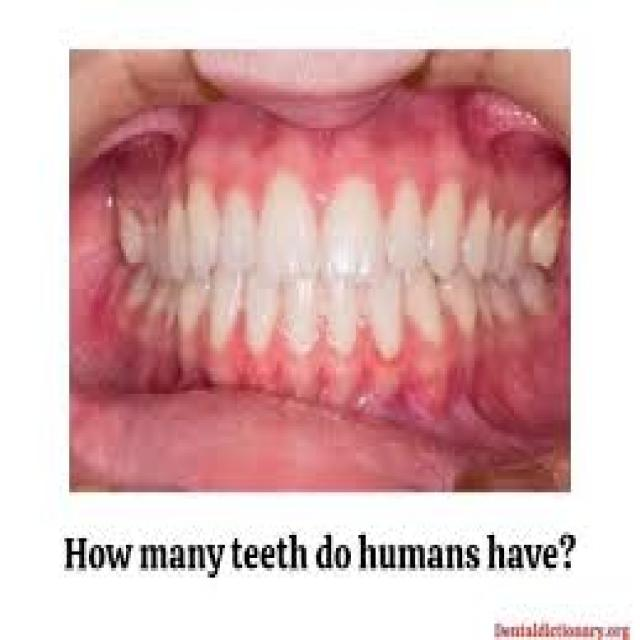tooth: (497, 197, 566, 331), (322, 171, 386, 282), (257, 161, 316, 276), (425, 177, 465, 279), (324, 269, 366, 361), (274, 276, 319, 361), (114, 276, 180, 332), (366, 282, 408, 368), (390, 174, 428, 269), (218, 174, 255, 269), (188, 177, 220, 269), (116, 193, 153, 266), (438, 272, 480, 335), (158, 194, 190, 276), (244, 272, 272, 352), (180, 269, 212, 338), (410, 266, 440, 338), (213, 272, 242, 344), (469, 194, 492, 282)
